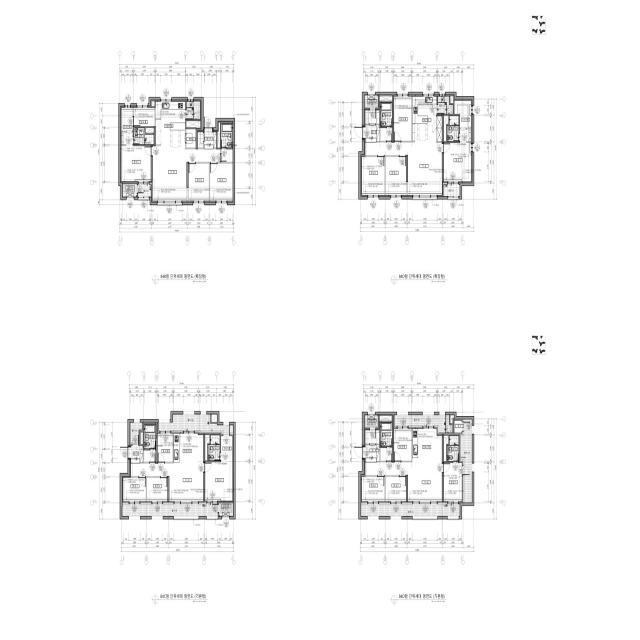space_balconi: (158, 414, 233, 434), (361, 504, 460, 517), (122, 504, 218, 517), (395, 415, 452, 433), (461, 419, 472, 503), (438, 96, 453, 114), (130, 423, 142, 444), (186, 102, 200, 119), (444, 184, 460, 196), (138, 184, 151, 197)
space_bedroom: (444, 129, 471, 182), (205, 462, 232, 501), (121, 146, 151, 181), (362, 157, 385, 195), (210, 164, 233, 201), (188, 164, 209, 201), (386, 157, 406, 195), (444, 463, 462, 502), (362, 477, 385, 502), (123, 478, 146, 502), (386, 477, 406, 502), (147, 478, 167, 502)
space_dressroom: (454, 101, 471, 128), (121, 108, 133, 145), (221, 436, 232, 462)
space_front: (363, 125, 379, 142), (365, 445, 380, 462), (131, 446, 143, 463), (204, 132, 216, 149)
space_kitchen: (156, 102, 185, 149), (412, 97, 442, 142), (412, 429, 442, 462), (174, 434, 203, 463)
space_living_room: (365, 143, 442, 195), (153, 146, 220, 201), (365, 463, 442, 502), (131, 463, 203, 502)
space_other: (394, 96, 411, 141), (394, 429, 411, 461), (157, 434, 173, 462), (134, 108, 155, 127), (365, 430, 379, 444), (365, 110, 379, 124), (186, 129, 196, 148), (221, 149, 233, 162), (144, 450, 156, 462), (381, 448, 392, 461), (381, 128, 392, 141), (205, 435, 210, 461), (444, 436, 448, 461), (444, 116, 448, 141), (186, 121, 200, 128), (454, 421, 462, 433), (198, 132, 203, 148), (217, 123, 220, 148), (380, 416, 392, 421), (380, 96, 392, 101), (211, 414, 217, 422), (146, 128, 154, 133), (450, 415, 454, 423), (141, 432, 143, 444), (450, 96, 453, 103), (152, 101, 155, 106)
space_outdoor_room: (219, 503, 233, 516), (123, 184, 137, 197), (365, 415, 378, 428), (365, 95, 378, 108)
space_toilet: (134, 128, 154, 144), (380, 422, 392, 447), (447, 436, 459, 461), (208, 435, 220, 460), (447, 116, 459, 141), (144, 425, 156, 449), (221, 124, 232, 148), (381, 103, 392, 126)
